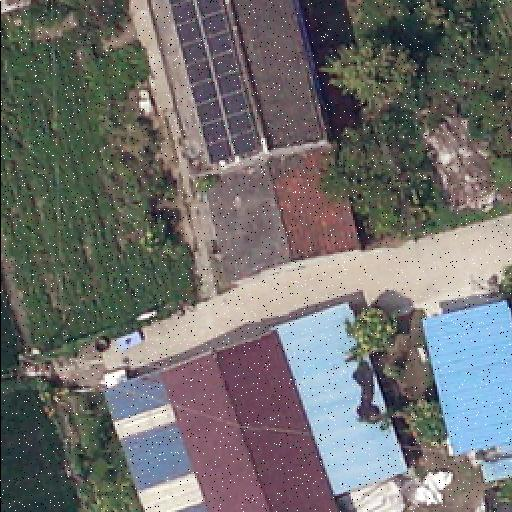solar-panel: (164, 0, 270, 196)
